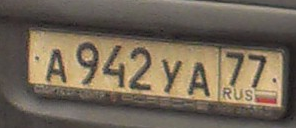character: (74, 40, 100, 88), (128, 44, 152, 91), (103, 43, 125, 91), (188, 59, 213, 101), (45, 47, 69, 86), (160, 56, 182, 97), (224, 52, 245, 89), (248, 53, 268, 89)
